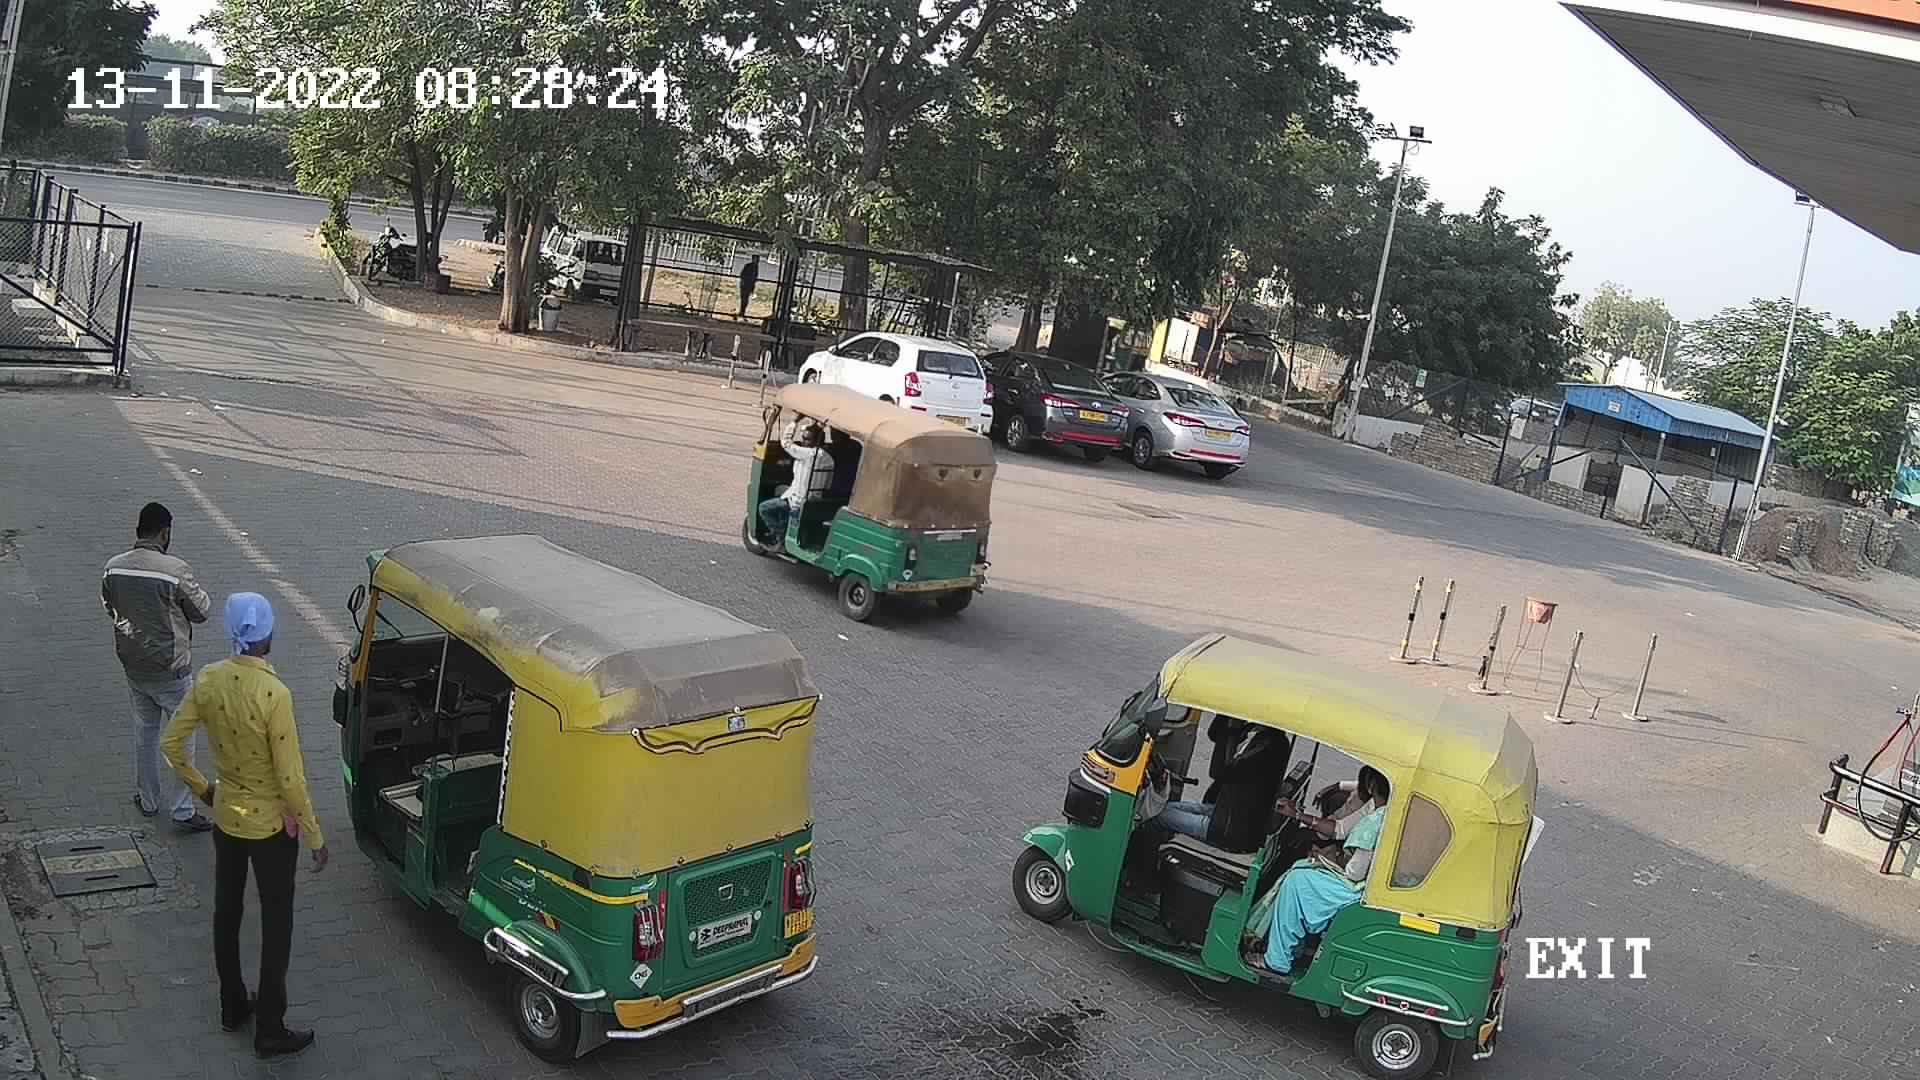Auto: (326, 527, 827, 1072), (1026, 615, 1540, 1072), (732, 371, 1001, 616)
Bike: (351, 212, 419, 290)
Car: (785, 323, 1017, 446), (969, 339, 1137, 473), (1091, 361, 1257, 485), (525, 204, 636, 306)
